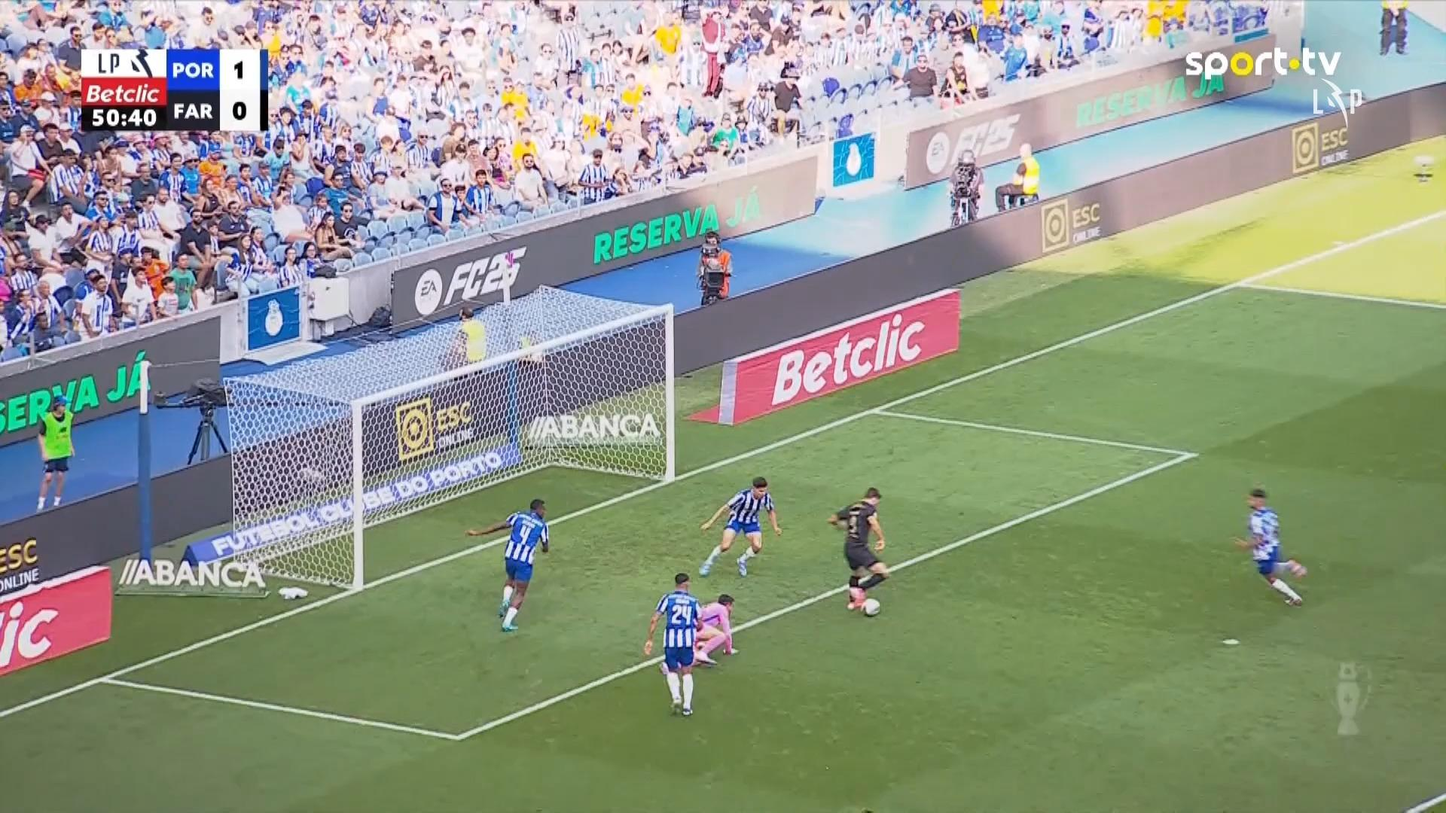ball: (277, 586, 307, 600), (862, 598, 880, 616)
goalkeeper: (692, 593, 738, 666)
player: (464, 497, 550, 632), (1231, 487, 1307, 607), (643, 571, 703, 717), (697, 476, 782, 577), (826, 486, 889, 613), (440, 306, 487, 377)
